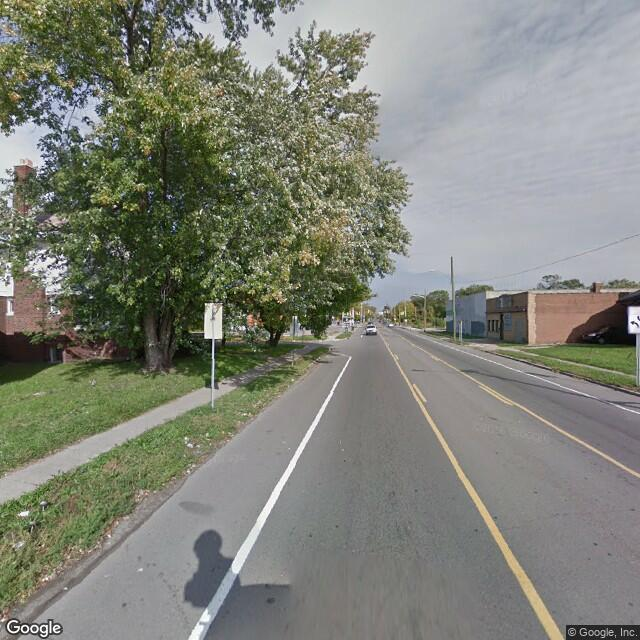litter: (17, 509, 29, 518), (137, 565, 143, 573), (186, 442, 193, 448), (290, 377, 296, 383)
